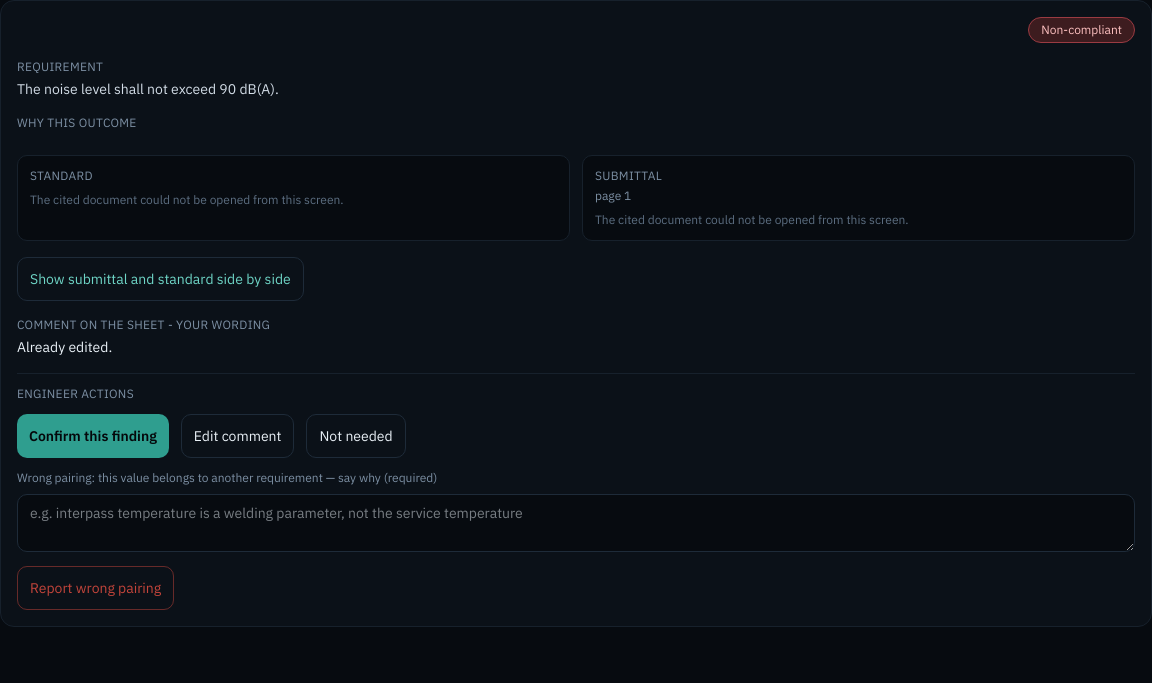
Test: Edit comment › prefills the textarea with the existing engineer_comment
Click the button "Edit comment".
click(238, 436)  # box [181, 414, 294, 458]
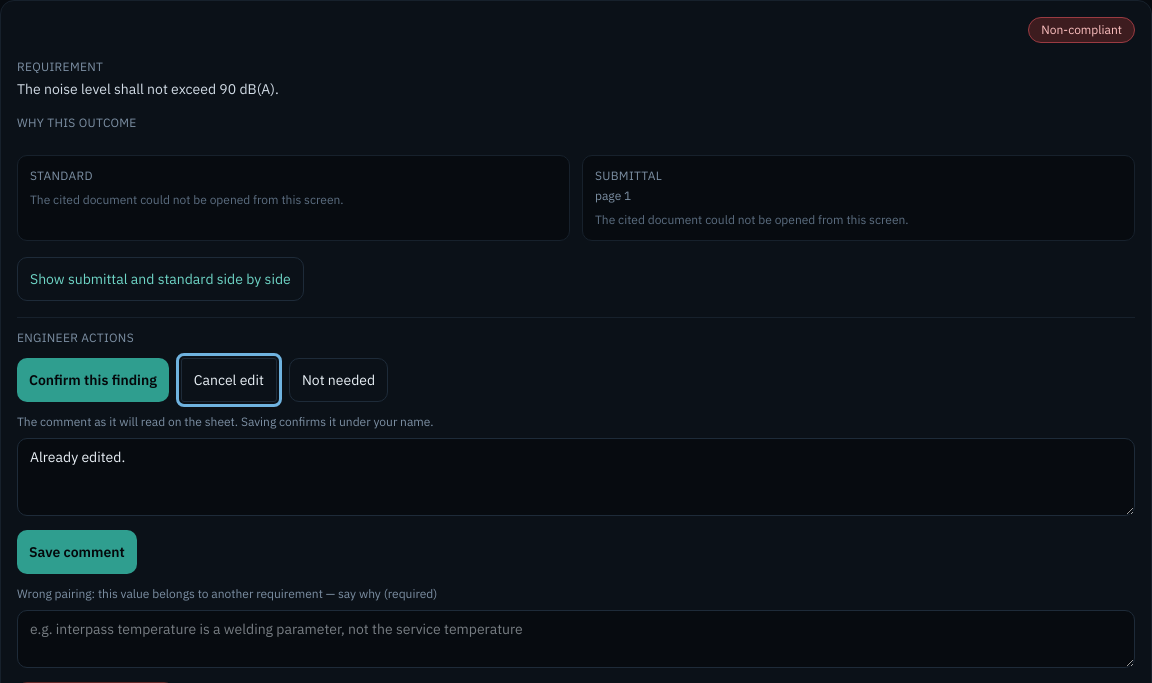
Check: the text box labelled "comment as it will read on the sheet" holds "Already edited.", box [17, 438, 1135, 516]
